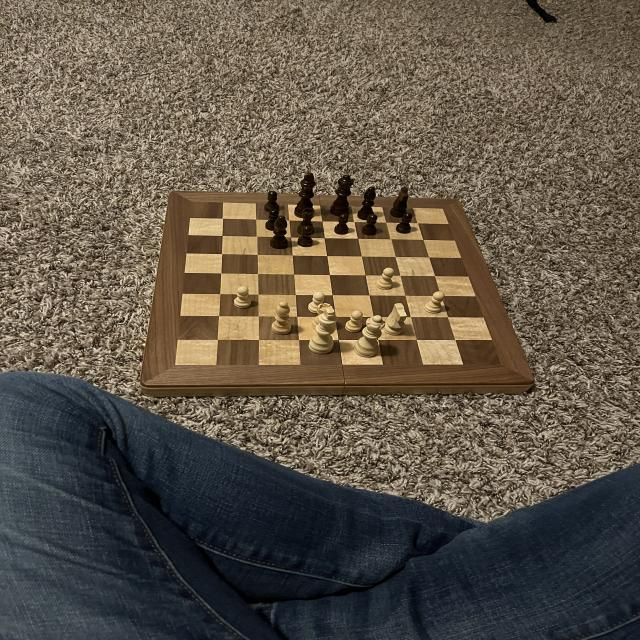bishop: (354, 184, 381, 223), (269, 214, 291, 251)
black-bishop: (294, 170, 317, 221)
black-king: (388, 187, 413, 218)
black-knight: (359, 212, 382, 238), (393, 212, 416, 234), (296, 225, 316, 248), (332, 212, 351, 236), (264, 208, 282, 232), (263, 190, 280, 214)
black-pawn: (328, 174, 354, 218)
black-queen: (296, 207, 318, 234)
black-rook: (268, 300, 295, 336)
white-bishop: (308, 308, 338, 354)
white-king: (382, 301, 409, 338)
white-knight: (424, 290, 446, 316), (344, 308, 364, 334), (376, 266, 395, 293), (306, 291, 328, 314), (231, 286, 252, 310)
white-pawn: (355, 316, 385, 358)
white-queen: (311, 302, 338, 334)
